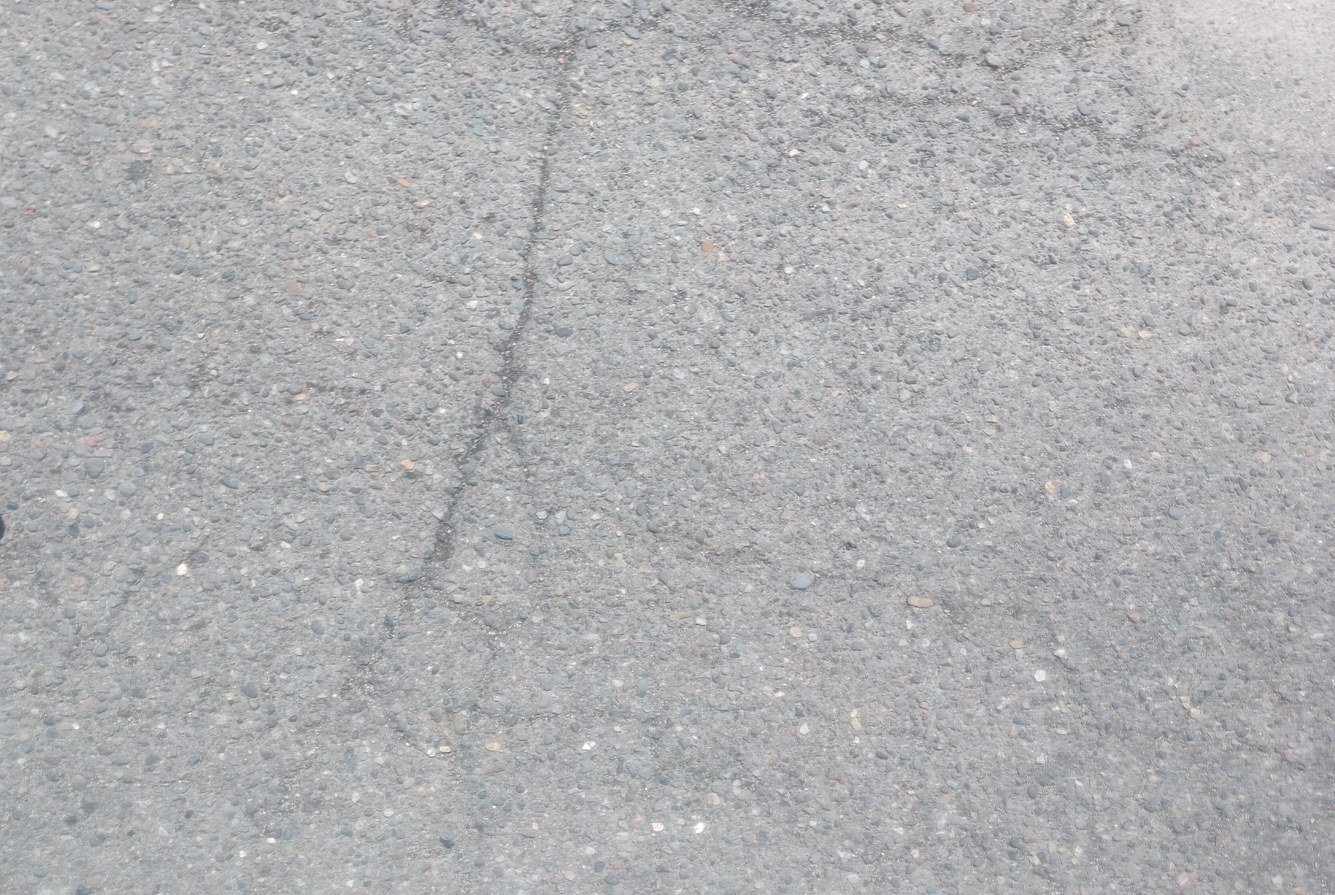GRIETA: (347, 40, 579, 764), (421, 586, 669, 735), (611, 517, 891, 608), (501, 423, 550, 615), (439, 0, 552, 57)
PIEL DE COCODRILO: (0, 329, 387, 872), (742, 0, 1335, 275), (856, 569, 1335, 895)
